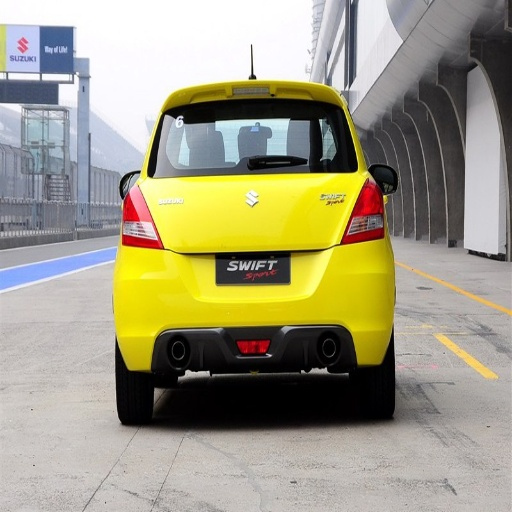back_bumper: (116, 235, 394, 379)
trunk: (148, 171, 365, 296)
